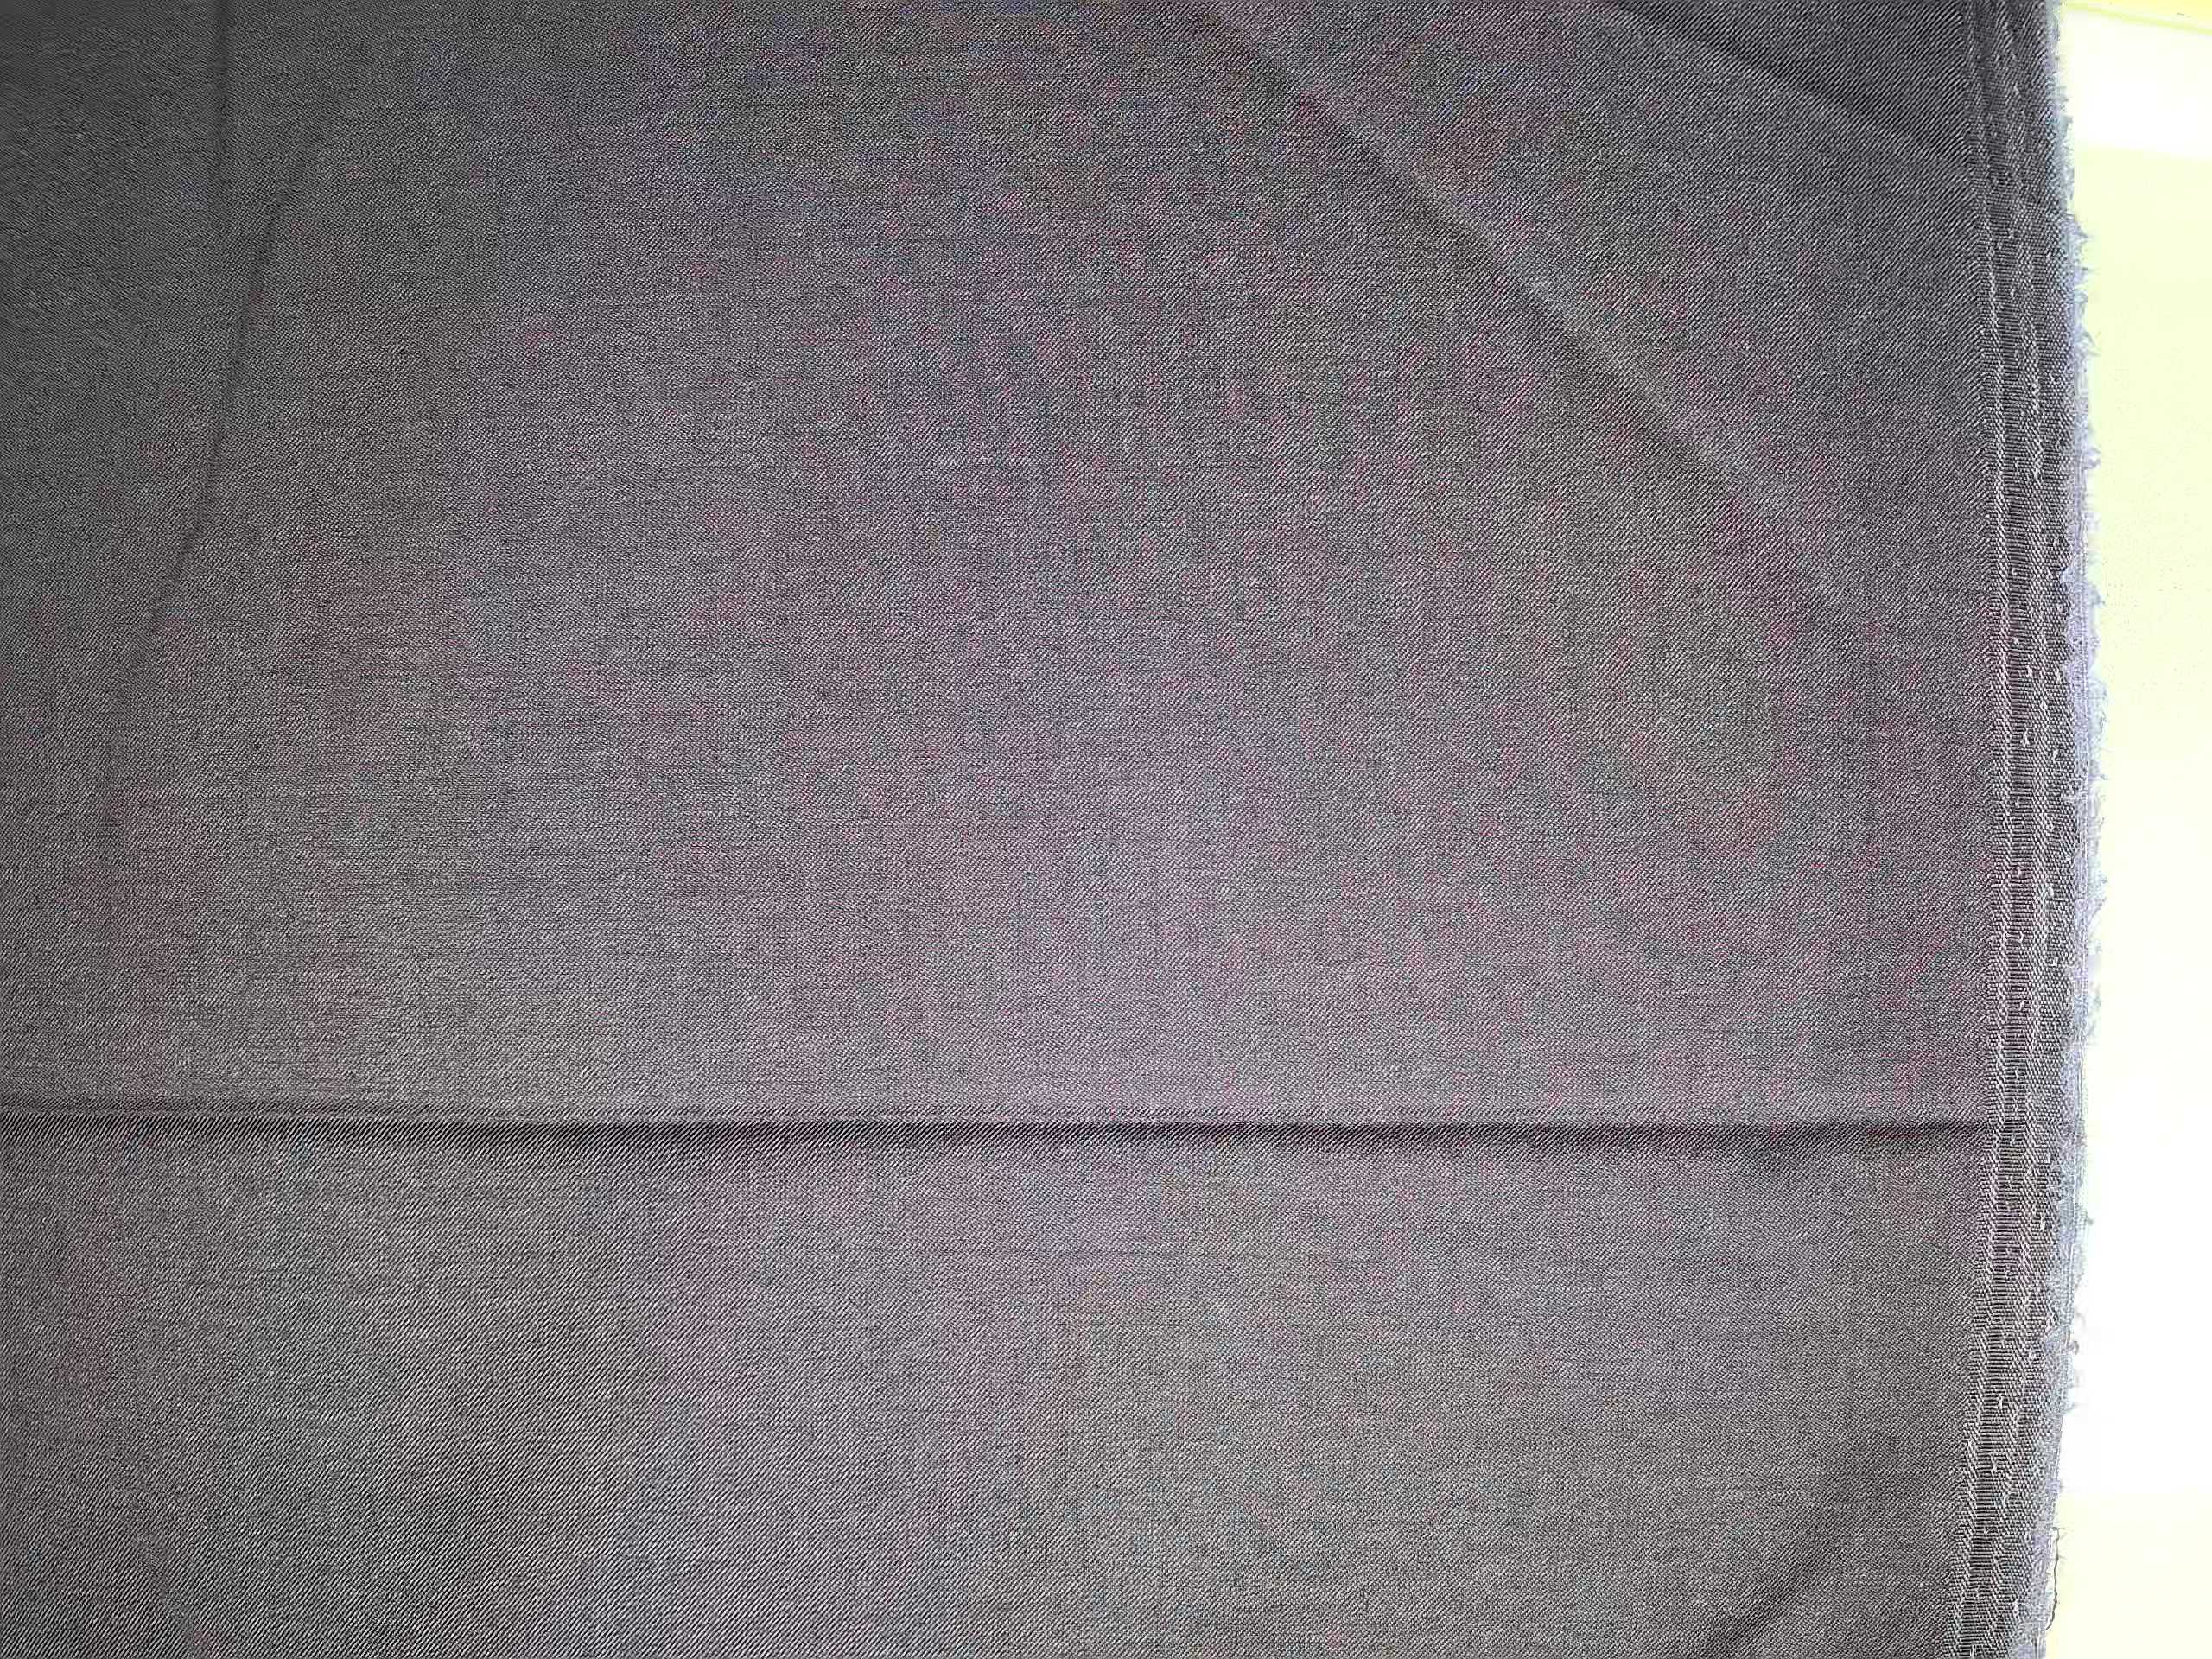others: (817, 298, 1407, 1129)
